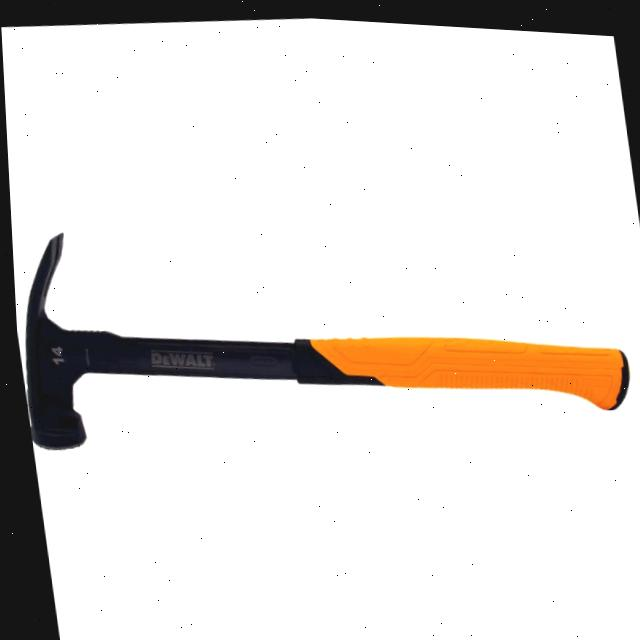hammer: (7, 168, 640, 488)
